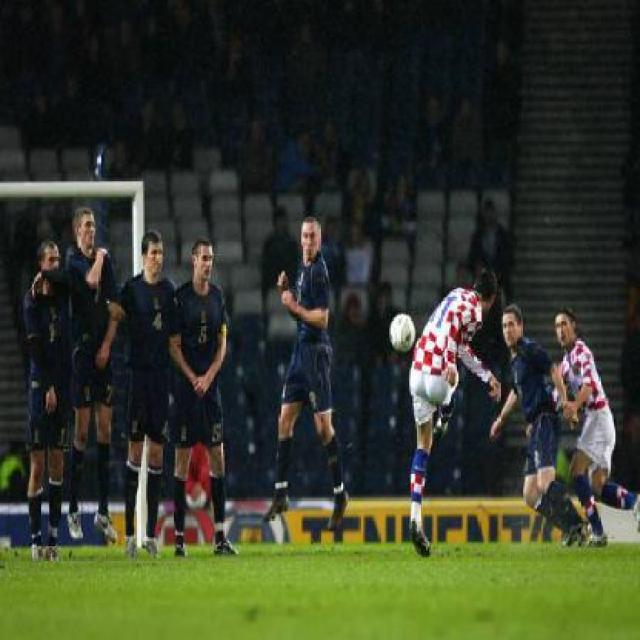ball: (385, 305, 421, 358)
player: (406, 270, 503, 559), (261, 218, 352, 524), (487, 297, 583, 548), (547, 299, 640, 550), (113, 225, 175, 558), (175, 235, 238, 558), (65, 212, 118, 549), (25, 223, 64, 566)
